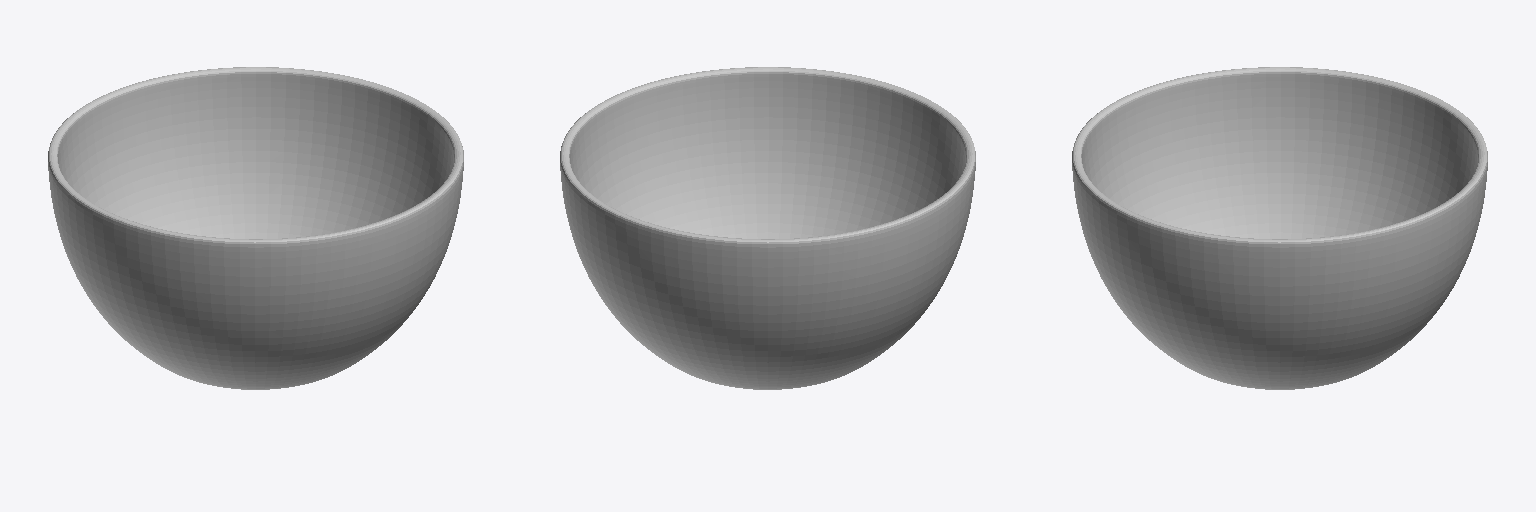
Rendered from Glass bowl.obj.
3 renders of one model, left to right at view 1: azimuth 30°, elevation 25°; view 2: azimuth 150°, elevation 25°; view 3: azimuth 270°, elevation 25°, orthographic.
Parts seen in each view (by area): view 1: Bowl_01; view 2: Bowl_01; view 3: Bowl_01.
Part boxes in pixels (x1,y1,x2,y2): Bowl_01: (48,67,463,389); Bowl_01: (560,67,975,389); Bowl_01: (1072,67,1487,389).
Bounding box in the file's own units: 0.12 × 0.065 × 0.12.